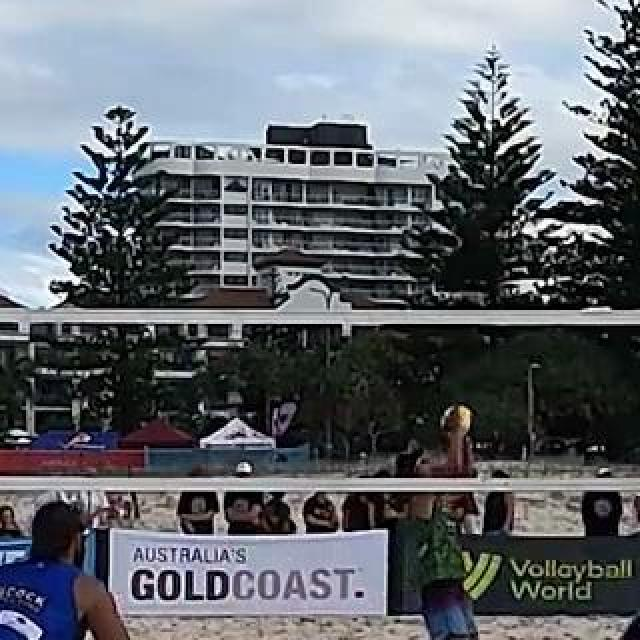volleyball: (442, 405, 472, 437)
